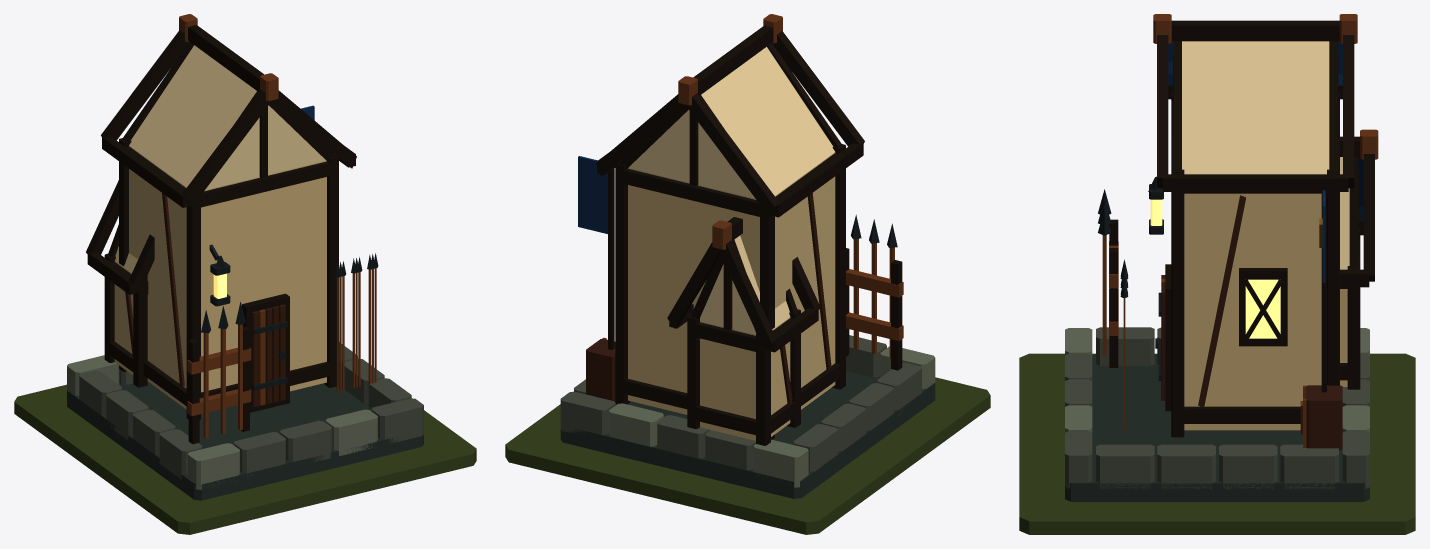
File: fletcher_t6.glb
3 views of the same model, side by side, from view 1: azimuth 30°, elevation 25°; view 2: azimuth 150°, elevation 25°; view 3: azimuth 270°, elevation 25° (orthographic). The views are drawn at different scales.
Parts seen in each view (by area): view 1: MMR | fletcher | T06 Architecture.001, MMR | fletcher | Tier 06 Ground.001; view 2: MMR | fletcher | T06 Architecture.001, MMR | fletcher | Tier 06 Ground.001; view 3: MMR | fletcher | T06 Architecture.001, MMR | fletcher | Tier 06 Ground.001.
Part boxes in pixels (bbox=[...]): MMR | fletcher | T06 Architecture.001: bbox=[67, 14, 423, 500]; MMR | fletcher | Tier 06 Ground.001: bbox=[14, 384, 476, 534]; MMR | fletcher | T06 Architecture.001: bbox=[560, 14, 935, 498]; MMR | fletcher | Tier 06 Ground.001: bbox=[505, 377, 990, 534]; MMR | fletcher | T06 Architecture.001: bbox=[1065, 14, 1378, 501]; MMR | fletcher | Tier 06 Ground.001: bbox=[1019, 353, 1415, 534].
Size of the model in its own units: 1.3 by 1.57 by 1.3.
2 materials, 1 textured.
